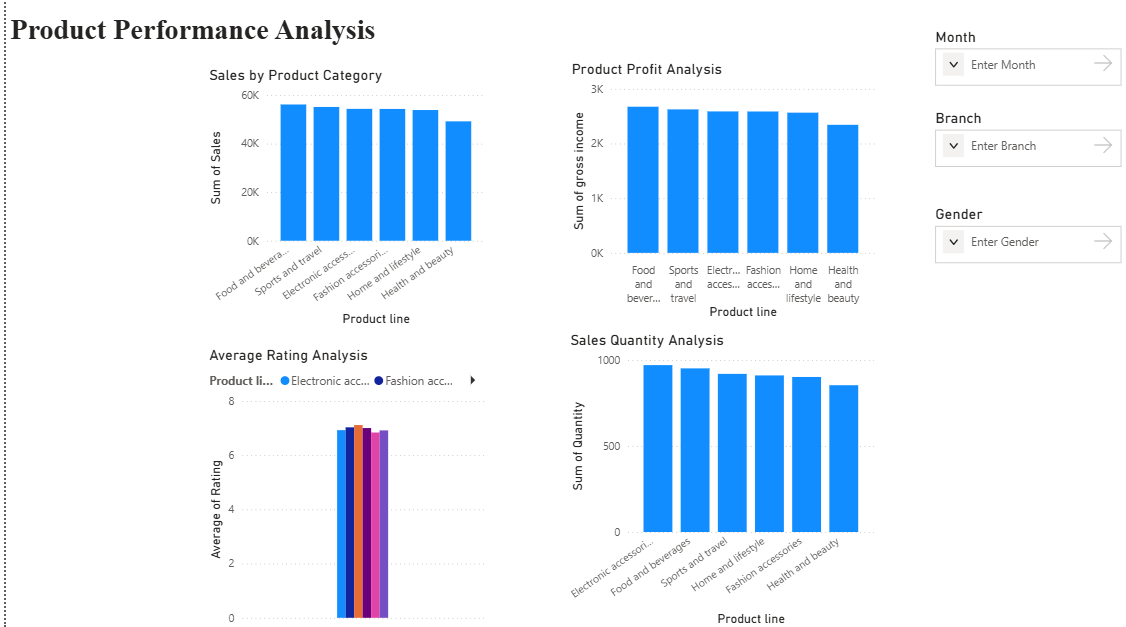

The page's visual inventory and layout, read from the dashboard file:
{"tool":"powerbi","page":{"name":"Product Performance Analysis","canvas":[1280,720],"ordinal":1},"visuals":[{"type":"clusteredColumnChart","title":"Sales by Product Category","fields":{"Category":["SuperMarket Analysis.Product line"],"Y":["Sum(SuperMarket Analysis.Sales)"]},"box":[227.1,75.7,325.7,301.4],"z":0},{"type":"clusteredColumnChart","title":"Average Rating Analysis","fields":{"Y":["Avg(SuperMarket Analysis.Rating)"],"Series":["SuperMarket Analysis.Product line"]},"box":[227.1,395.7,325.7,324.3],"z":1000},{"type":"clusteredColumnChart","title":"Sales Quantity Analysis","fields":{"Category":["SuperMarket Analysis.Product line"],"Y":["Sum(SuperMarket Analysis.Quantity)"]},"box":[640,378.6,357.1,341.4],"z":2000},{"type":"clusteredColumnChart","title":"Product Profit Analysis","fields":{"Category":["SuperMarket Analysis.Product line"],"Y":["Sum(SuperMarket Analysis.gross income)"]},"box":[641.4,68.6,357.1,301.4],"z":3000},{"type":"textSlicer","fields":{"Values":["SuperMarket Analysis.Branch"]},"box":[1057.5,123.8,222.5,71.2],"z":4000},{"type":"textSlicer","fields":{"Values":["SuperMarket Analysis.Month"]},"box":[1057.5,31.2,222.5,71.2],"z":5000},{"type":"textSlicer","fields":{"Values":["SuperMarket Analysis.Gender"]},"box":[1057.5,233.8,222.5,71.2],"z":6000},{"type":"textbox","box":[1058,379,222,341],"z":7000},{"type":"textbox","box":[0,10,490,57.1],"z":8000}]}

Visuals, with their boxes in screenshot pixels (x1, y1, x2, y2), scaled from the page's 1280x720 canvas onto the 1126x627 screenshot:
"Sales by Product Category" clusteredColumnChart: left=200, top=66, right=486, bottom=328
"Average Rating Analysis" clusteredColumnChart: left=200, top=345, right=486, bottom=626
"Sales Quantity Analysis" clusteredColumnChart: left=563, top=330, right=877, bottom=626
"Product Profit Analysis" clusteredColumnChart: left=564, top=60, right=878, bottom=322
textSlicer - SuperMarket Analysis.Branch: left=930, top=108, right=1125, bottom=170
textSlicer - SuperMarket Analysis.Month: left=930, top=27, right=1125, bottom=89
textSlicer - SuperMarket Analysis.Gender: left=930, top=204, right=1125, bottom=266
textbox: left=931, top=330, right=1125, bottom=626
textbox: left=0, top=9, right=431, bottom=58
